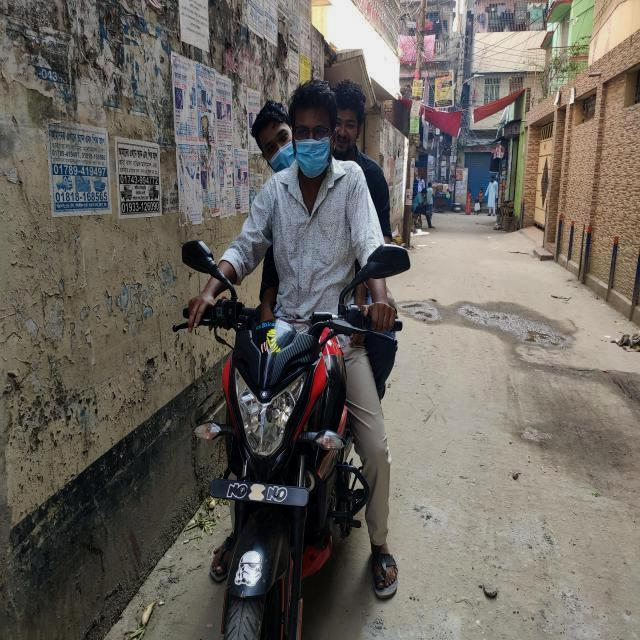motorcycle: (167, 241, 419, 640)
person: (242, 78, 368, 496), (298, 75, 387, 426), (226, 101, 324, 360)
rider_region: (169, 71, 409, 640)
